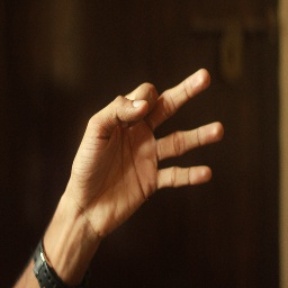K: (78, 67, 225, 212)
